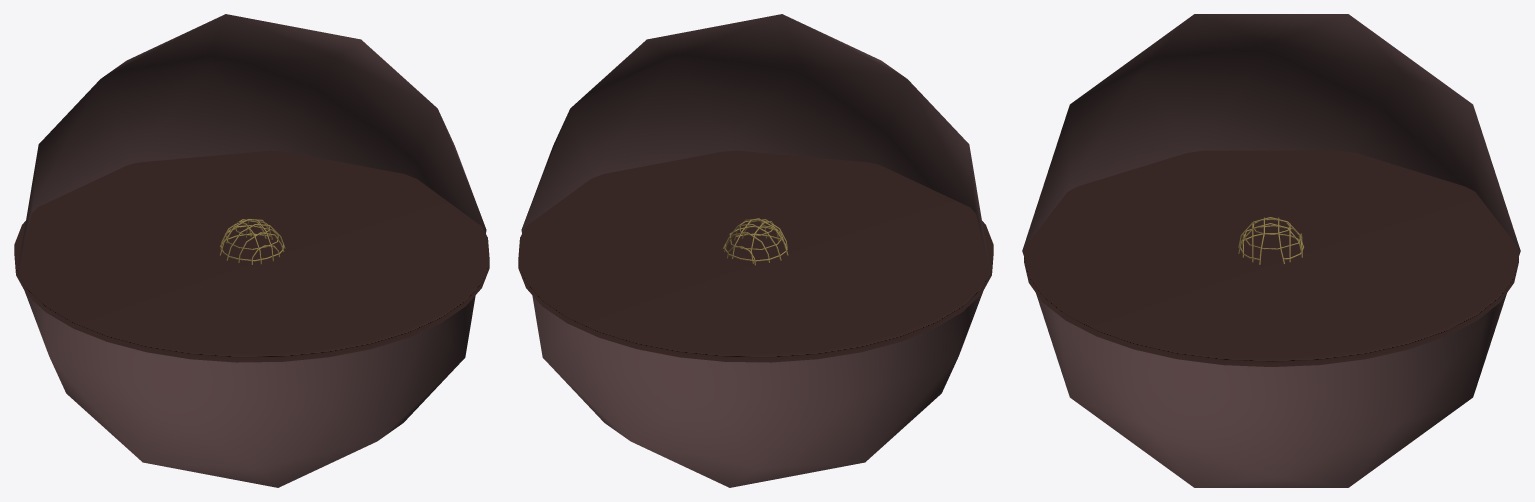
3 views of the same model, side by side, from view 1: azimuth 30°, elevation 25°; view 2: azimuth 150°, elevation 25°; view 3: azimuth 270°, elevation 25° (orthographic). The views are drawn at different scales.
Parts seen in each view (by area): view 1: envirosphere.004, ground.006; view 2: envirosphere.004, ground.006; view 3: envirosphere.004, ground.006.
Part boxes in pixels (bbox=[...]): envirosphere.004: bbox=[17, 14, 486, 487]; ground.006: bbox=[14, 150, 489, 362]; envirosphere.004: bbox=[521, 14, 990, 487]; ground.006: bbox=[518, 150, 993, 362]; envirosphere.004: bbox=[1022, 14, 1520, 487]; ground.006: bbox=[1024, 150, 1518, 366].
Bounding box in the file's own units: 13.58 × 13.69 × 13.69.
